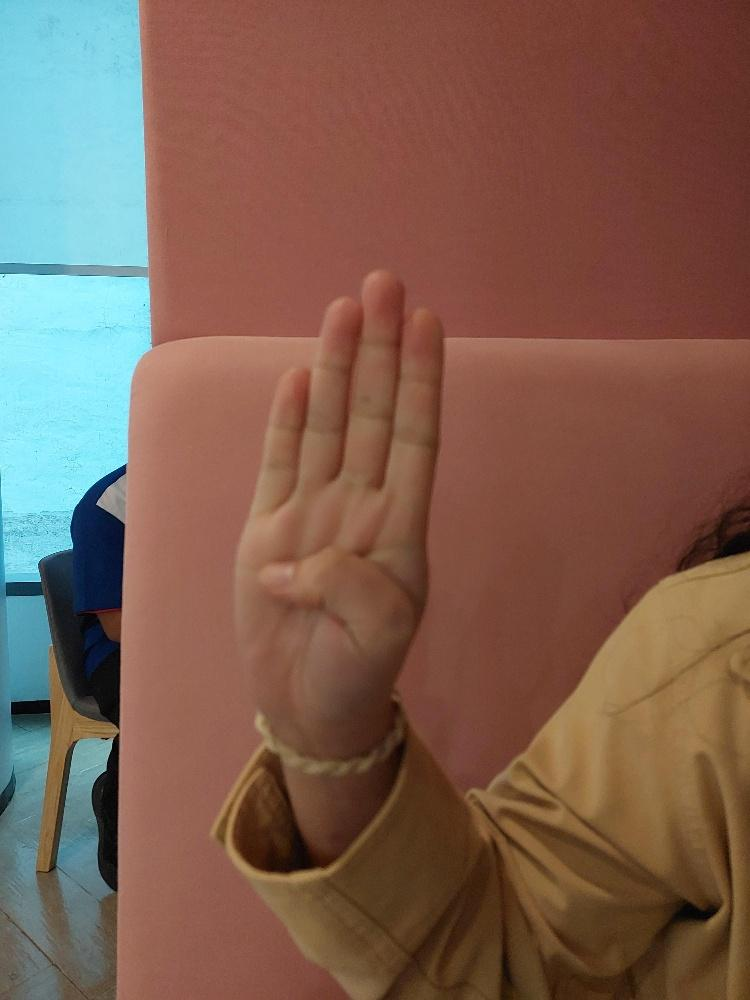b: (225, 257, 449, 755)
